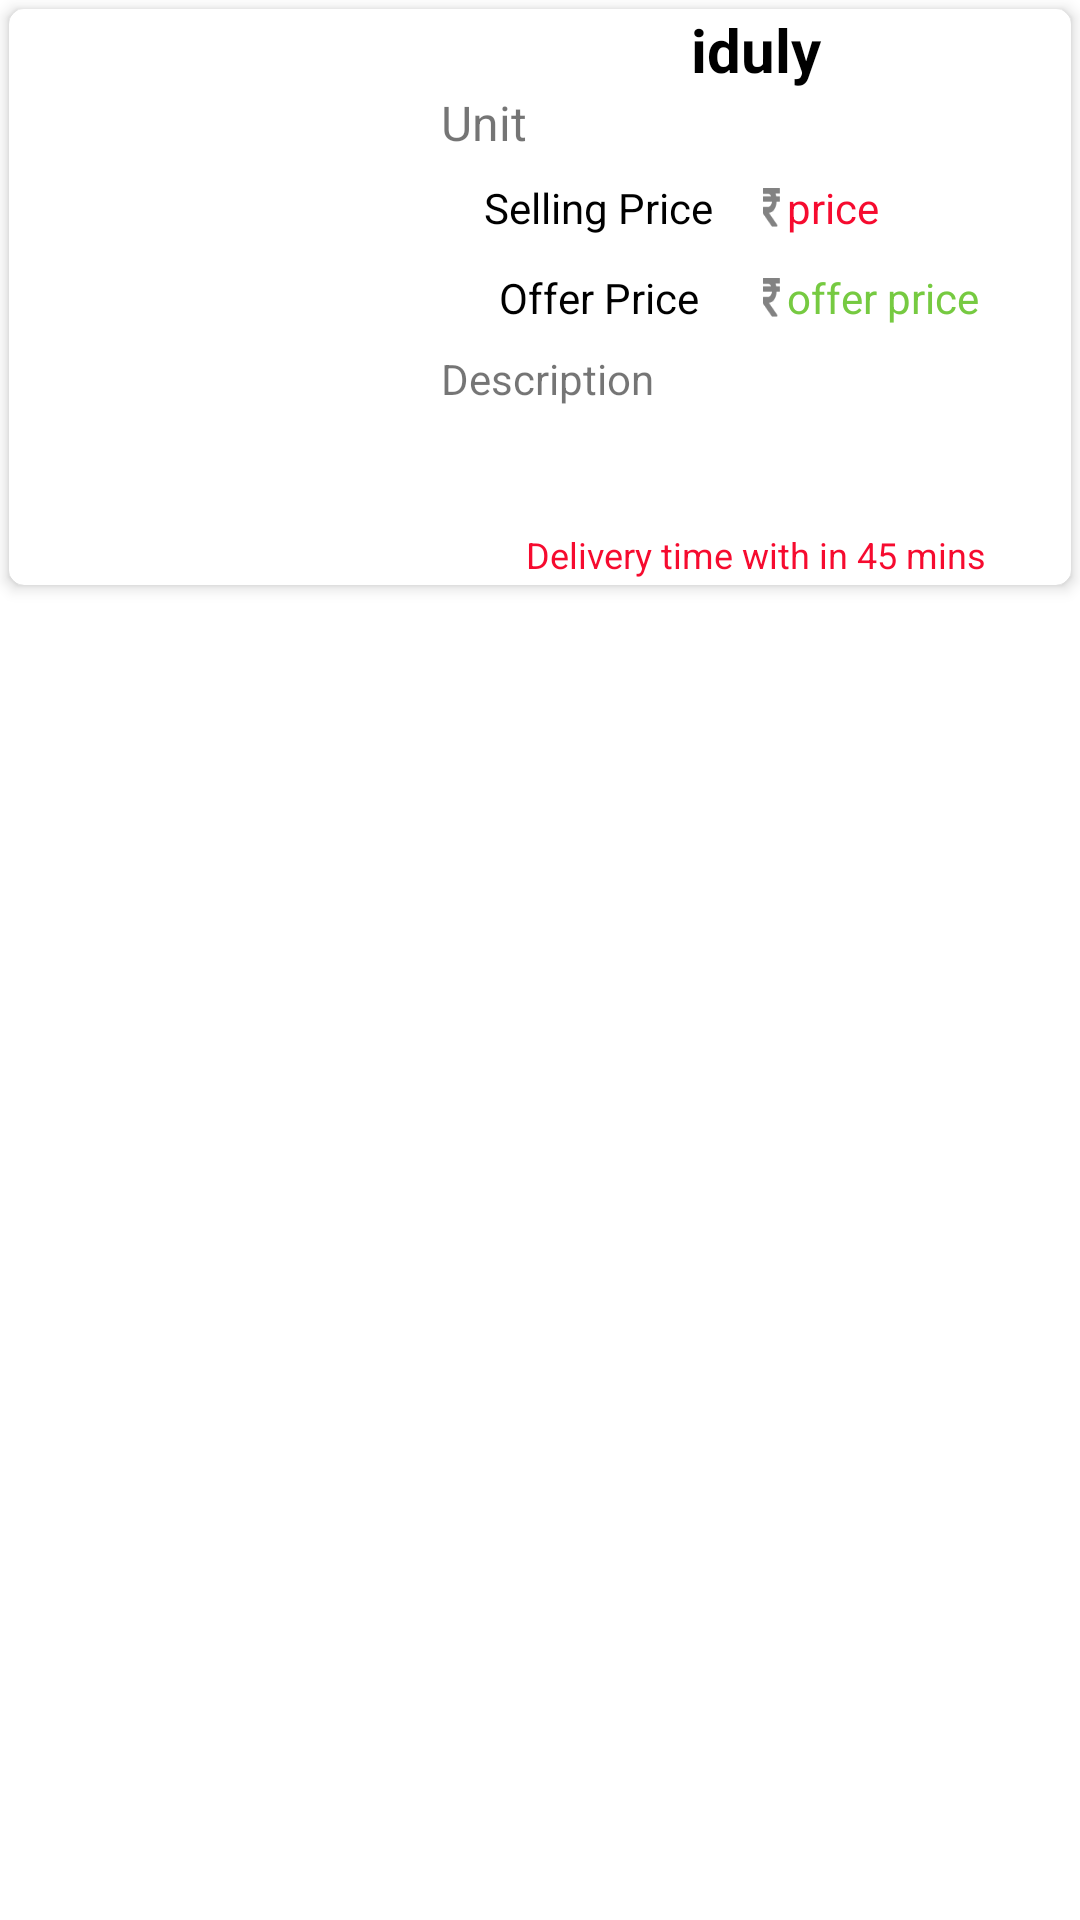

Where to tap for icons on this 1080px×1920px app screen, as point (x, y):
rupee: point (771, 207), point (771, 297)
